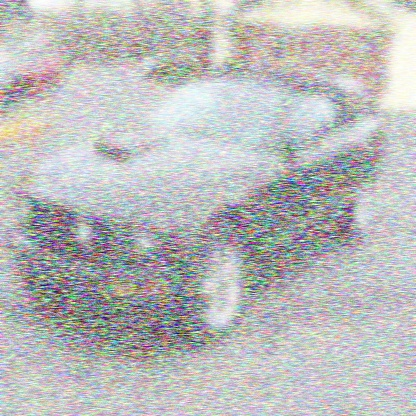Vehicle: (5, 64, 390, 348)
